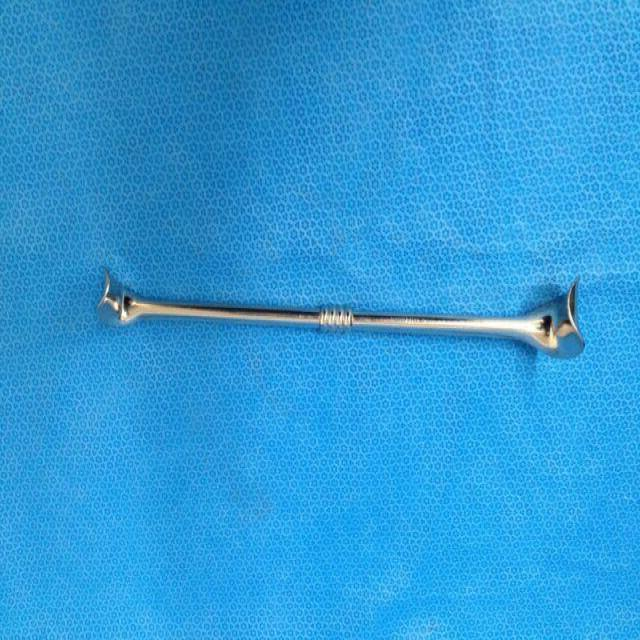Richardson: (99, 262, 588, 370)
